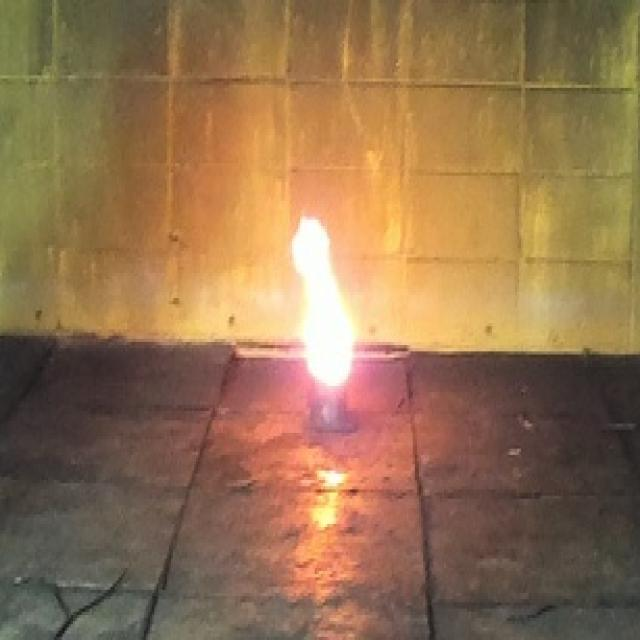Fire: (291, 215, 352, 388)
